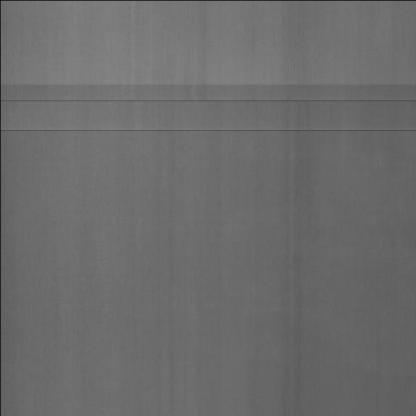welding_line: (0, 82, 416, 110), (0, 118, 416, 140)
